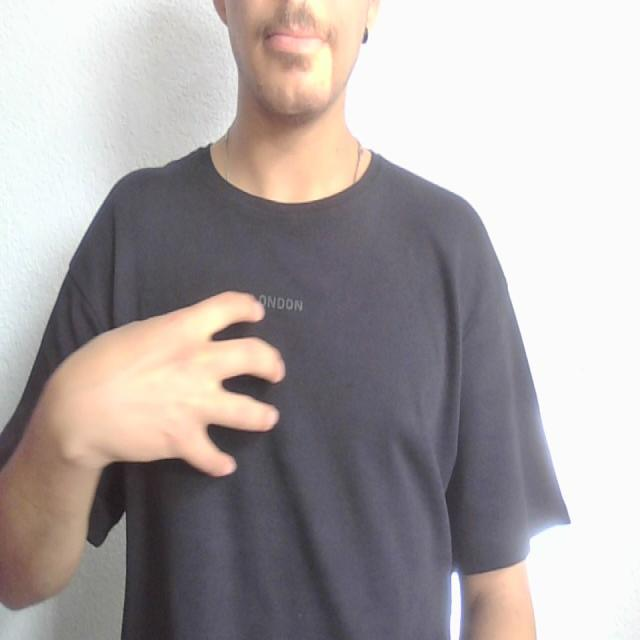Anne: (30, 277, 293, 504)
